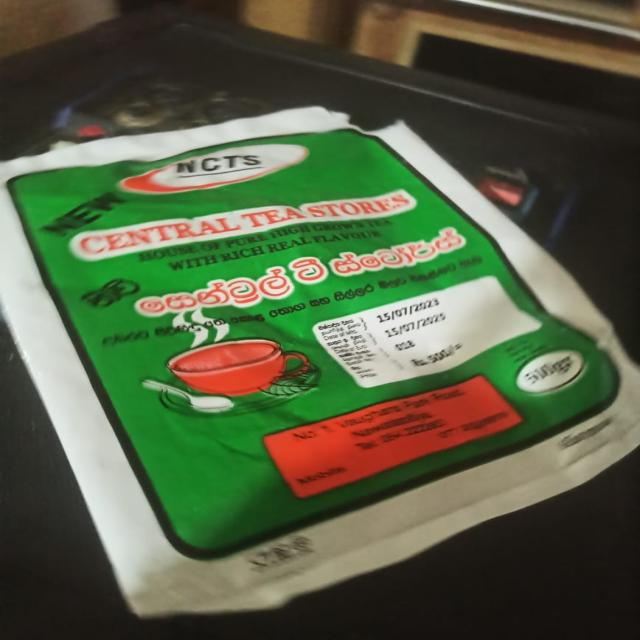Central Tea: (44, 177, 543, 481)
